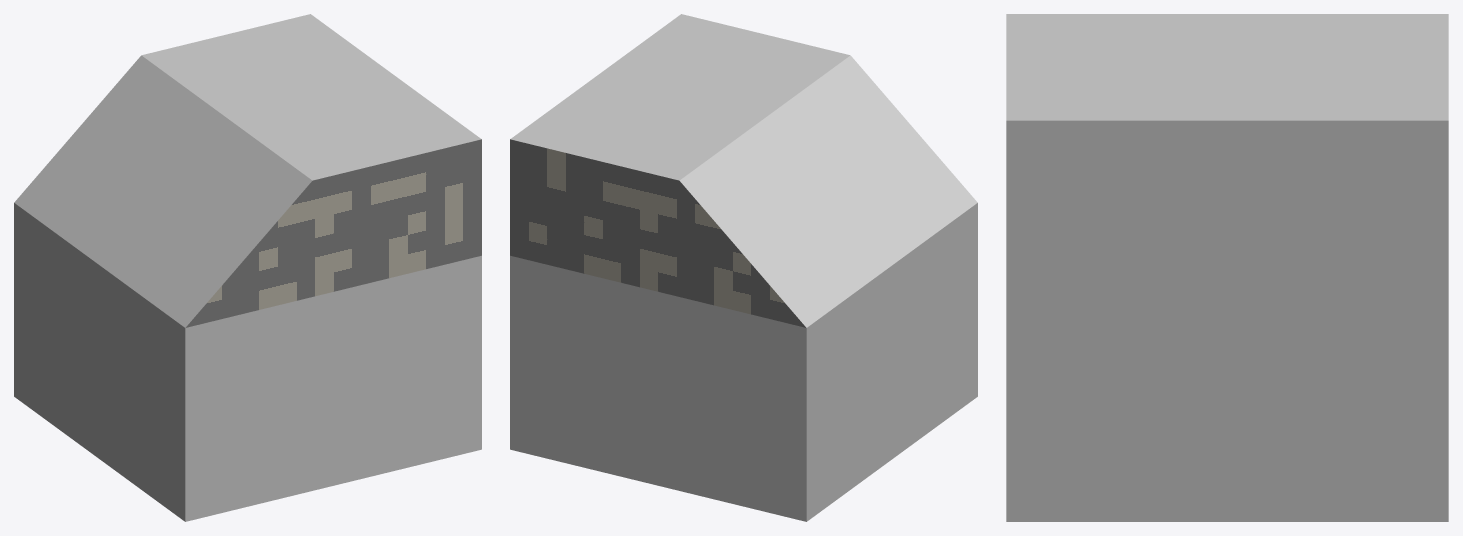
The model's file is slope87_5_shave8_base10.obj.
The picture shows the model from 3 angles, left to right: view 1: azimuth 30°, elevation 25°; view 2: azimuth 150°, elevation 25°; view 3: azimuth 270°, elevation 25°; orthographic projection. The views are drawn at different scales.
Size of the model in its own units: 1 by 1 by 1.
